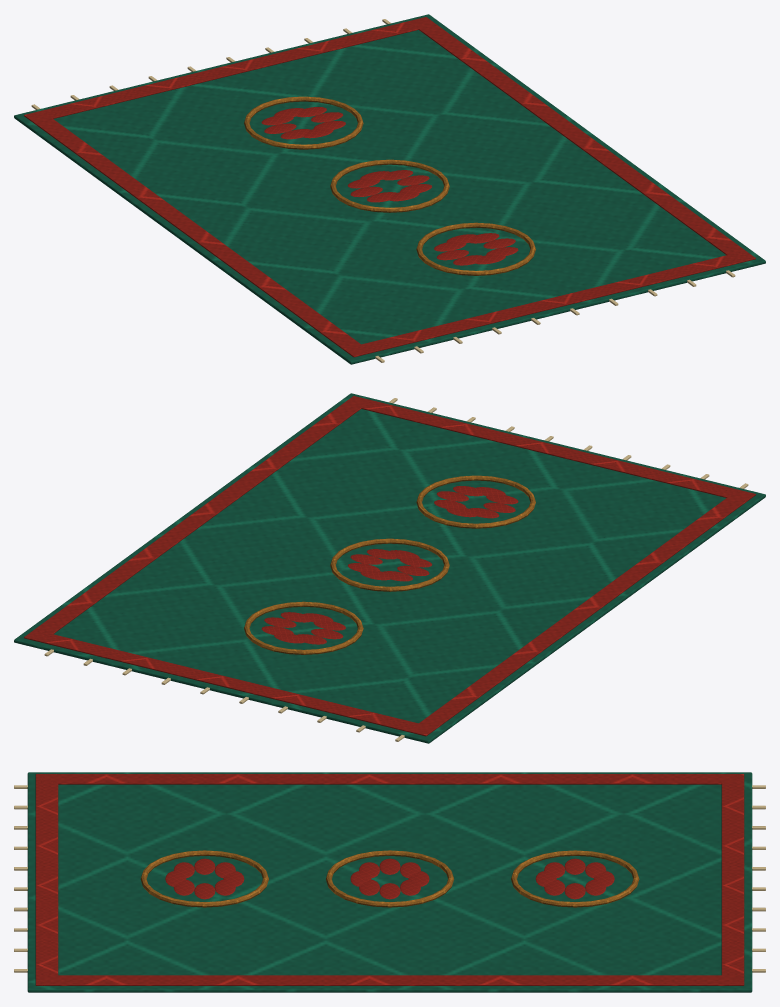
File: patterned_rug.glb
The picture shows the model from 3 angles, top to bottom: view 1: azimuth 30°, elevation 25°; view 2: azimuth 150°, elevation 25°; view 3: azimuth 270°, elevation 25°; orthographic projection. The views are drawn at different scales.
Parts seen in each view (by area): view 1: patterned_rug_Silk, patterned_rug_Brocade, patterned_rug_Brass, patterned_rug_Paper; view 2: patterned_rug_Silk, patterned_rug_Brocade, patterned_rug_Brass, patterned_rug_Paper; view 3: patterned_rug_Silk, patterned_rug_Brocade, patterned_rug_Brass, patterned_rug_Paper.
Part boxes in pixels (x1,y1,x2,y2): patterned_rug_Silk: [14, 14, 765, 364]; patterned_rug_Brocade: [24, 17, 755, 357]; patterned_rug_Brass: [244, 96, 535, 275]; patterned_rug_Paper: [31, 19, 735, 362]; patterned_rug_Silk: [14, 393, 765, 743]; patterned_rug_Brocade: [24, 396, 755, 736]; patterned_rug_Brass: [244, 475, 535, 654]; patterned_rug_Paper: [44, 398, 748, 741]; patterned_rug_Silk: [27, 772, 752, 992]; patterned_rug_Brocade: [35, 774, 744, 985]; patterned_rug_Brass: [140, 850, 639, 907]; patterned_rug_Paper: [14, 785, 765, 972].
Size of the model in its own units: 3.2 by 0.054 by 4.67.
4 materials, 4 textured.
